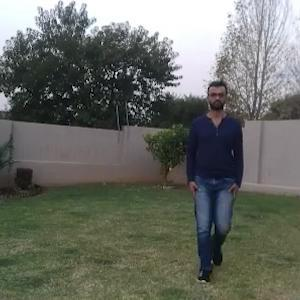follow: (186, 92, 240, 260)
